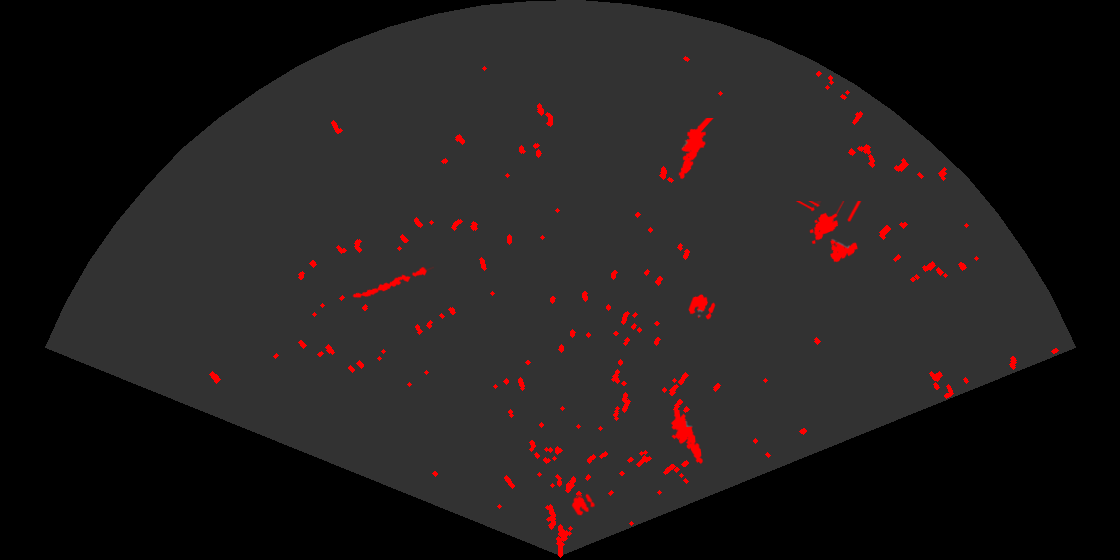ball: (687, 293, 717, 321), (570, 492, 597, 517)
cage: (794, 201, 863, 264)
chain: (351, 265, 434, 300)
frogman: (677, 118, 715, 181), (669, 410, 704, 466)
